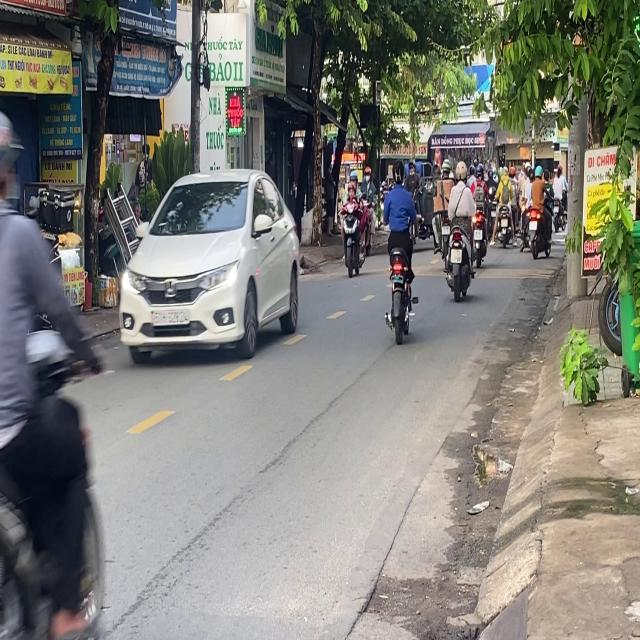helmet: (0, 106, 21, 206), (391, 159, 405, 185), (454, 160, 466, 182)
licenseplate: (0, 103, 112, 632), (381, 158, 419, 343), (442, 158, 476, 299)
motorcyclist: (391, 159, 405, 185)
nohelmet: (450, 248, 462, 262)
